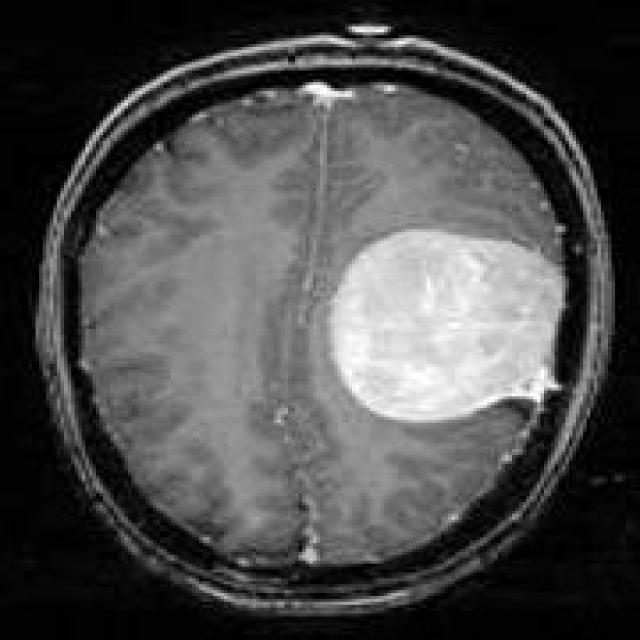Tumor-Cell: (330, 218, 558, 426)
